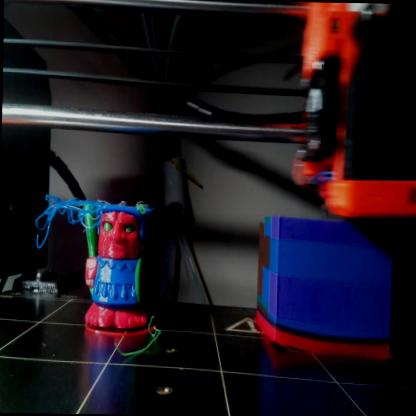fail: (32, 194, 99, 251), (115, 315, 166, 364)
